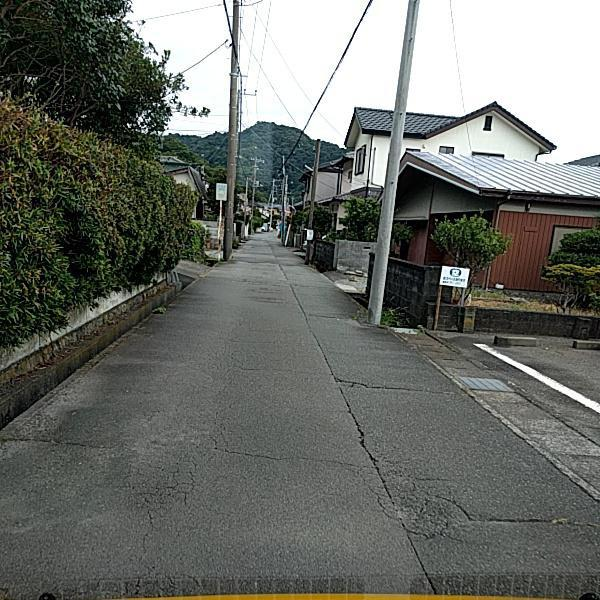D10: (218, 443, 378, 473), (334, 374, 457, 398), (469, 510, 566, 531), (4, 434, 111, 451)
D20: (78, 405, 237, 586), (352, 441, 484, 548)
